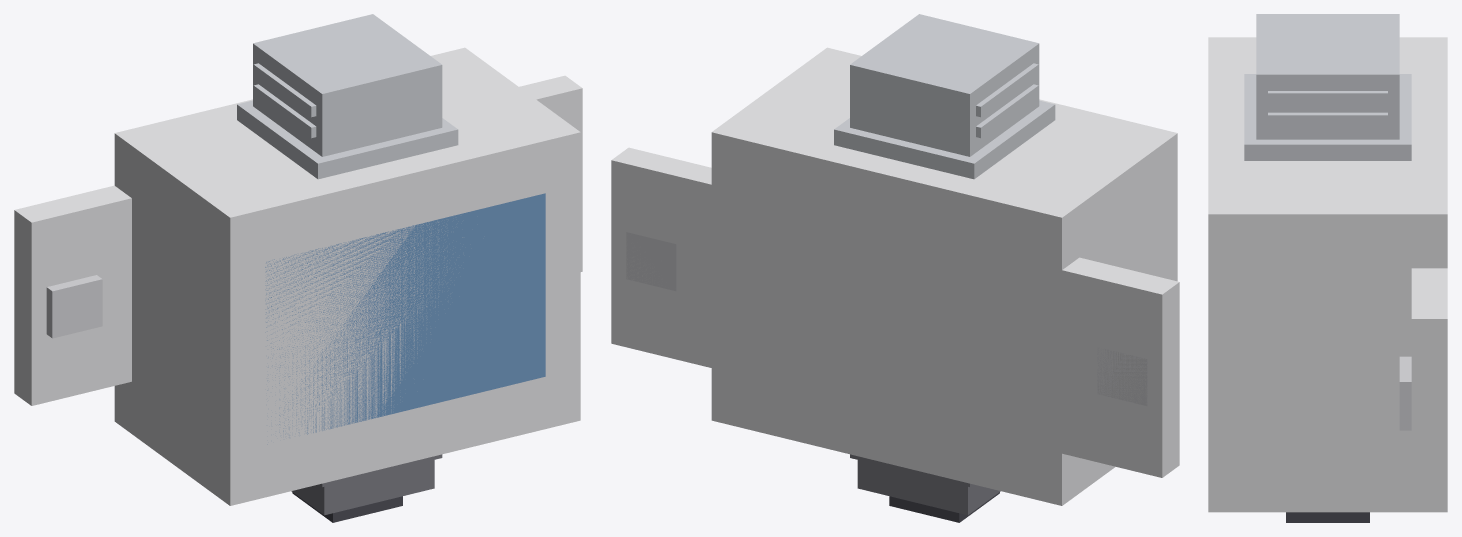
File: CN-THT02.glb
3 renders of one model, left to right at view 1: azimuth 30°, elevation 25°; view 2: azimuth 150°, elevation 25°; view 3: azimuth 270°, elevation 25°, orthographic. The views are drawn at different scales.
Parts seen in each view (by area): view 1: THT02_Enclosure, Front_Badge, Sensor_Probe_Cap, Mounting_Flanges, Cable_Gland_Nylon, Mounting_Ears, Cable_Boot_Rubber; view 2: THT02_Enclosure, Mounting_Flanges, Sensor_Probe_Cap, Mounting_Ears, Cable_Gland_Nylon, Cable_Boot_Rubber; view 3: THT02_Enclosure, Sensor_Probe_Cap, Mounting_Flanges, Mounting_Ears, Cable_Boot_Rubber.
Part boxes in pixels (x1,y1,x2,y2): THT02_Enclosure: (114, 47, 580, 505); Front_Badge: (265, 193, 545, 444); Sensor_Probe_Cap: (237, 14, 458, 179); Mounting_Flanges: (14, 75, 582, 405); Cable_Gland_Nylon: (291, 454, 442, 515); Mounting_Ears: (46, 275, 102, 338); Cable_Boot_Rubber: (292, 492, 402, 522); THT02_Enclosure: (711, 47, 1177, 505); Mounting_Flanges: (611, 147, 1179, 477); Sensor_Probe_Cap: (834, 14, 1055, 179); Mounting_Ears: (626, 232, 1147, 405); Cable_Gland_Nylon: (850, 454, 1000, 515); Cable_Boot_Rubber: (889, 492, 999, 522); THT02_Enclosure: (1208, 37, 1447, 512); Sensor_Probe_Cap: (1244, 14, 1411, 160); Mounting_Flanges: (1411, 268, 1447, 508); Mounting_Ears: (1399, 356, 1411, 430); Cable_Boot_Rubber: (1286, 512, 1369, 522).
Size of the model in its own units: 0.11 by 0.085 by 0.04.
